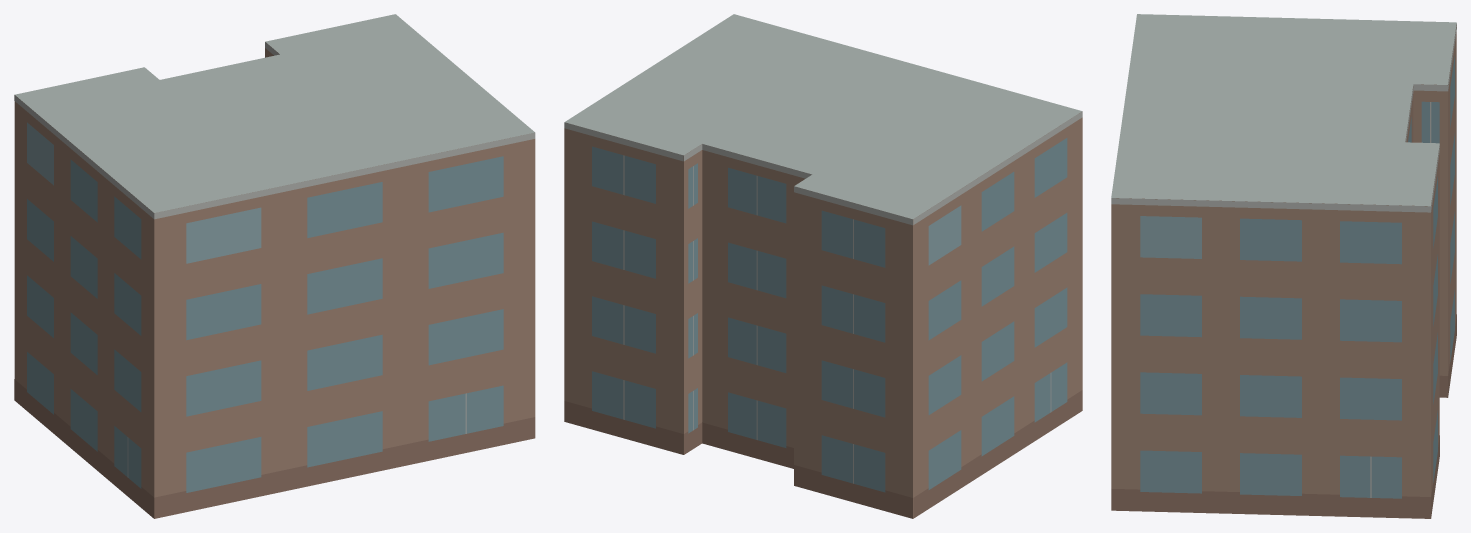
File: survey-upis-32492154.glb
3 renders of one model, left to right at view 1: azimuth 30°, elevation 25°; view 2: azimuth 150°, elevation 25°; view 3: azimuth 270°, elevation 25°, orthographic. The views are drawn at different scales.
Visible parts, largest first — view 1: survey-upis-32492154.tmp; view 2: survey-upis-32492154.tmp; view 3: survey-upis-32492154.tmp.
Part boxes in pixels (x1=…): survey-upis-32492154.tmp: x1=14, y1=14, x2=535, y2=518; survey-upis-32492154.tmp: x1=564, y1=14, x2=1082, y2=518; survey-upis-32492154.tmp: x1=1111, y1=14, x2=1456, y2=518.
Size of the model in its own units: 15.83 by 12 by 12.03.
